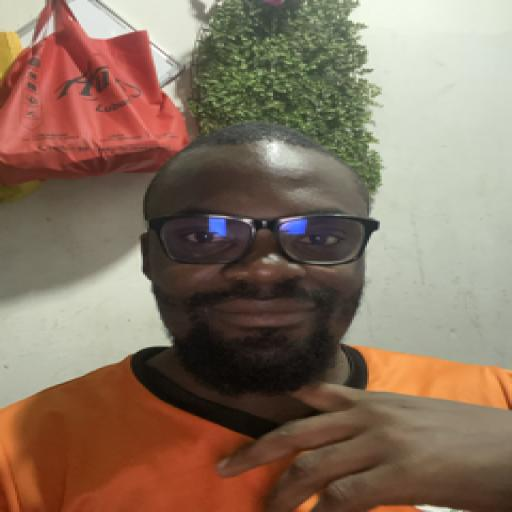JEANLUC: (126, 124, 396, 396)
